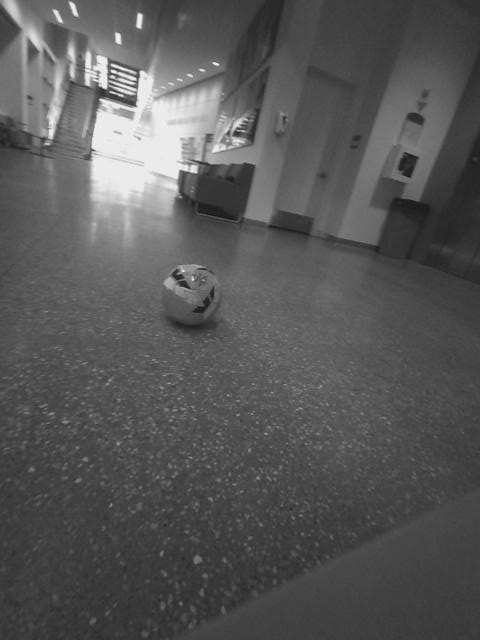ball: (287, 321, 359, 395)
